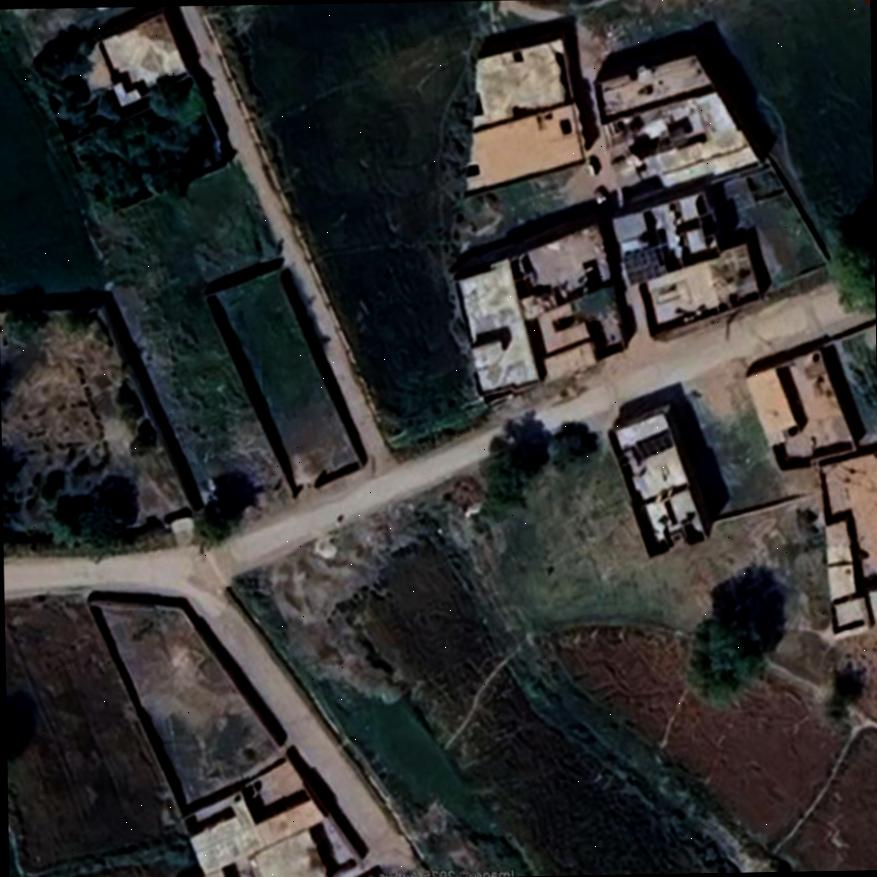Solarpanel: (624, 248, 658, 286)
